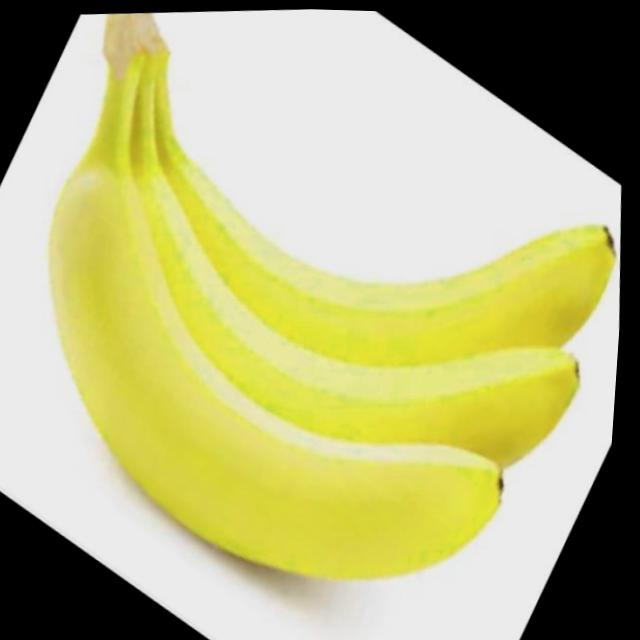Banana: (20, 1, 640, 600)
